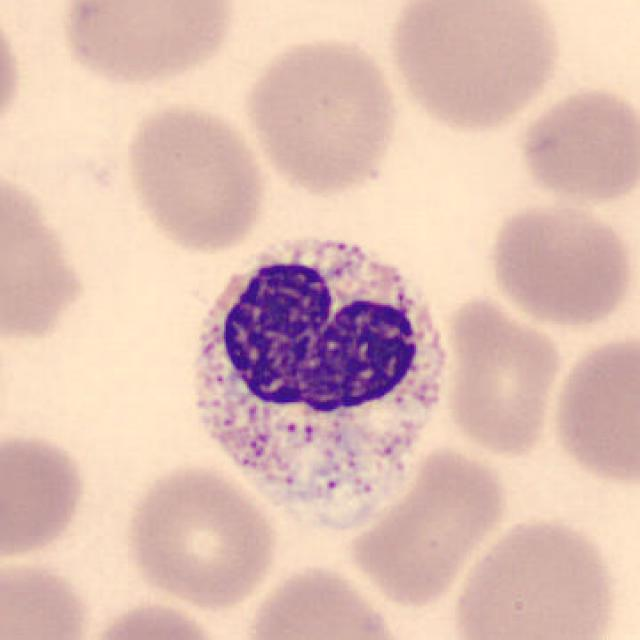Neutrophil: (169, 222, 464, 524)
RBC: (343, 441, 509, 608), (240, 32, 404, 195), (119, 460, 283, 612), (382, 0, 567, 134), (121, 98, 270, 255), (448, 513, 622, 640), (439, 293, 565, 462), (266, 405, 428, 536), (482, 198, 636, 330), (55, 0, 240, 90), (0, 162, 87, 346), (514, 81, 638, 208), (547, 328, 640, 490), (239, 560, 412, 640), (0, 425, 91, 564), (0, 553, 94, 640), (76, 597, 232, 640), (0, 0, 26, 153)
